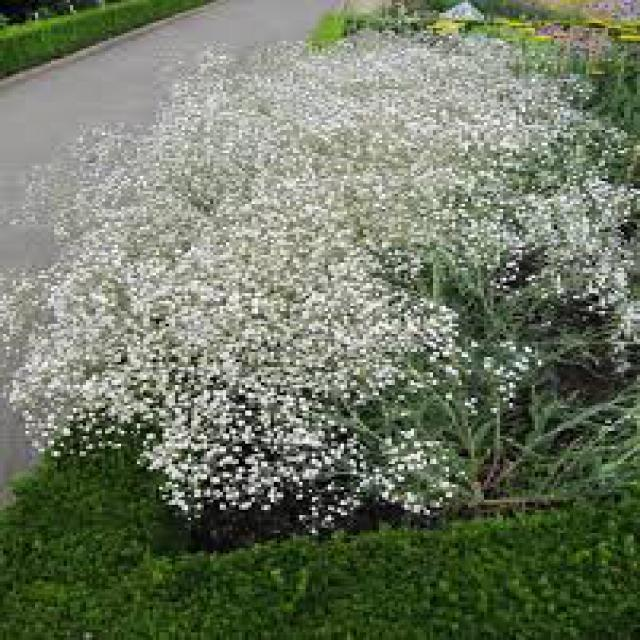gypsophila: (192, 325, 487, 517), (438, 157, 636, 347), (36, 261, 178, 501)
